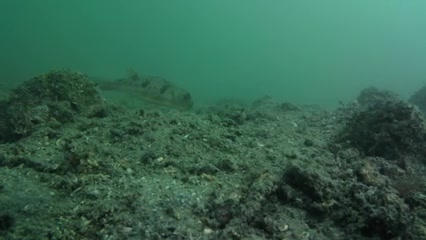hugu: (99, 62, 200, 119)
